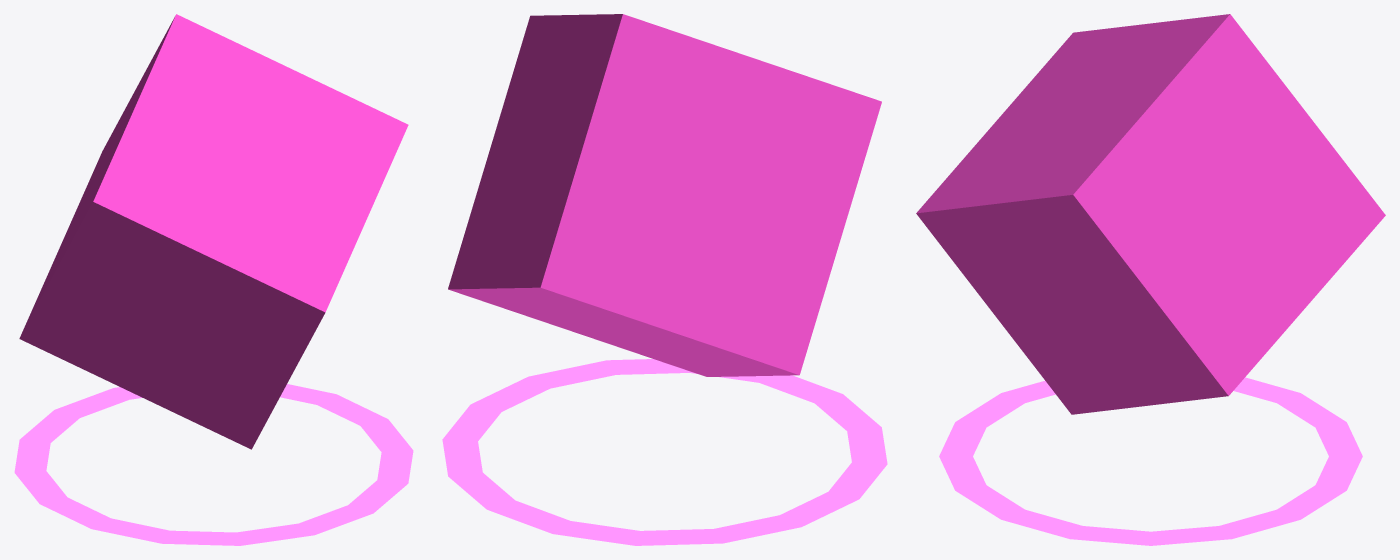
3 renders of one model, left to right at view 1: azimuth 30°, elevation 25°; view 2: azimuth 150°, elevation 25°; view 3: azimuth 270°, elevation 25°, orthographic. The views are drawn at different scales.
Parts seen in each view (by area): view 1: emblem_pixel.lod1; view 2: emblem_pixel.lod1; view 3: emblem_pixel.lod1.
Part boxes in pixels (x1,y1,x2,y2): emblem_pixel.lod1: [14, 14, 413, 545]; emblem_pixel.lod1: [442, 14, 887, 545]; emblem_pixel.lod1: [916, 14, 1385, 545].
Bounding box in the file's own units: 1 × 1.15 × 1.11.
